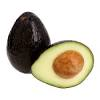aguacate: (26, 36, 96, 92), (4, 13, 54, 81)
